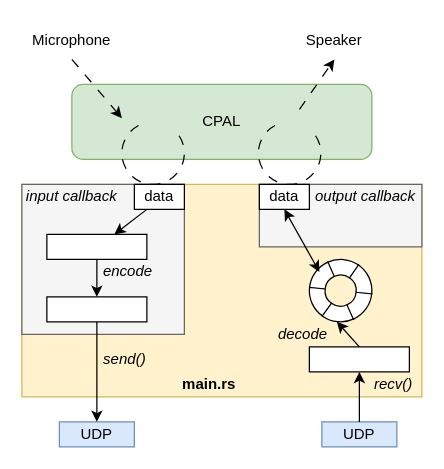
Some shapes in this 444 by 469 pixel diagram are drawn without their labels. The centre of each missing label's shape, as x and y in pixels:
opus_packet: [96,309]
packet: [358,359]
pcm_buffer: [96,246]
